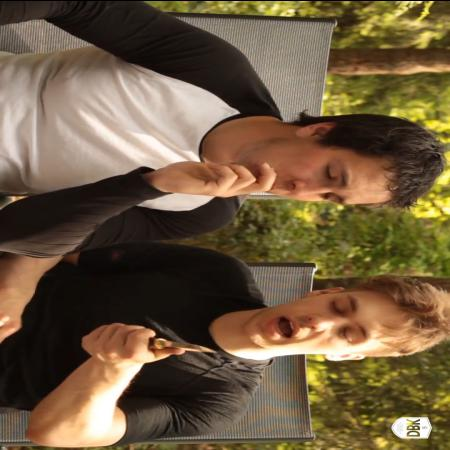long weapon: (102, 318, 228, 374)
